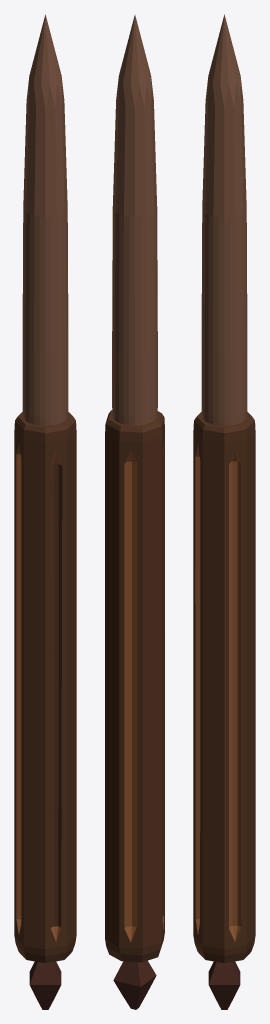
The model's file is Wand 505.glb.
3 renders of one model, left to right at view 1: azimuth 90°, elevation 25°; view 2: azimuth 150°, elevation 25°; view 3: azimuth 270°, elevation 25°, orthographic.
Visible parts, largest first — view 1: GeneratedWand; view 2: GeneratedWand; view 3: GeneratedWand.
Boxes of the visible parts, x1,y1,x2,y2 form: GeneratedWand: (14,14,76,1009); GeneratedWand: (105,15,164,1009); GeneratedWand: (193,14,255,1009).
Bounding box in the file's own units: 0.0289 × 0.5116 × 0.0289.
